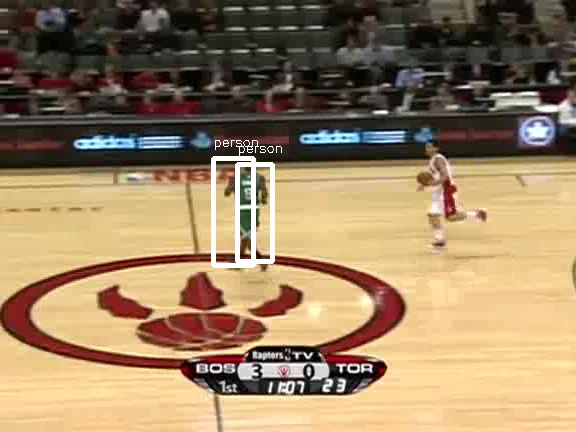person: (232, 163, 266, 244), (231, 163, 265, 244), (233, 163, 267, 244), (232, 162, 266, 243), (232, 164, 266, 245)
target_negative: (3, 301, 554, 367), (192, 263, 515, 321), (200, 310, 447, 379), (197, 296, 564, 321), (532, 234, 560, 380), (560, 186, 562, 240)
